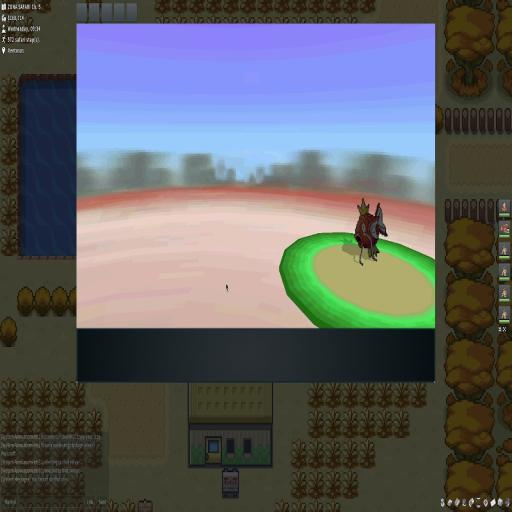MAGIKARP: (351, 193, 389, 268)
